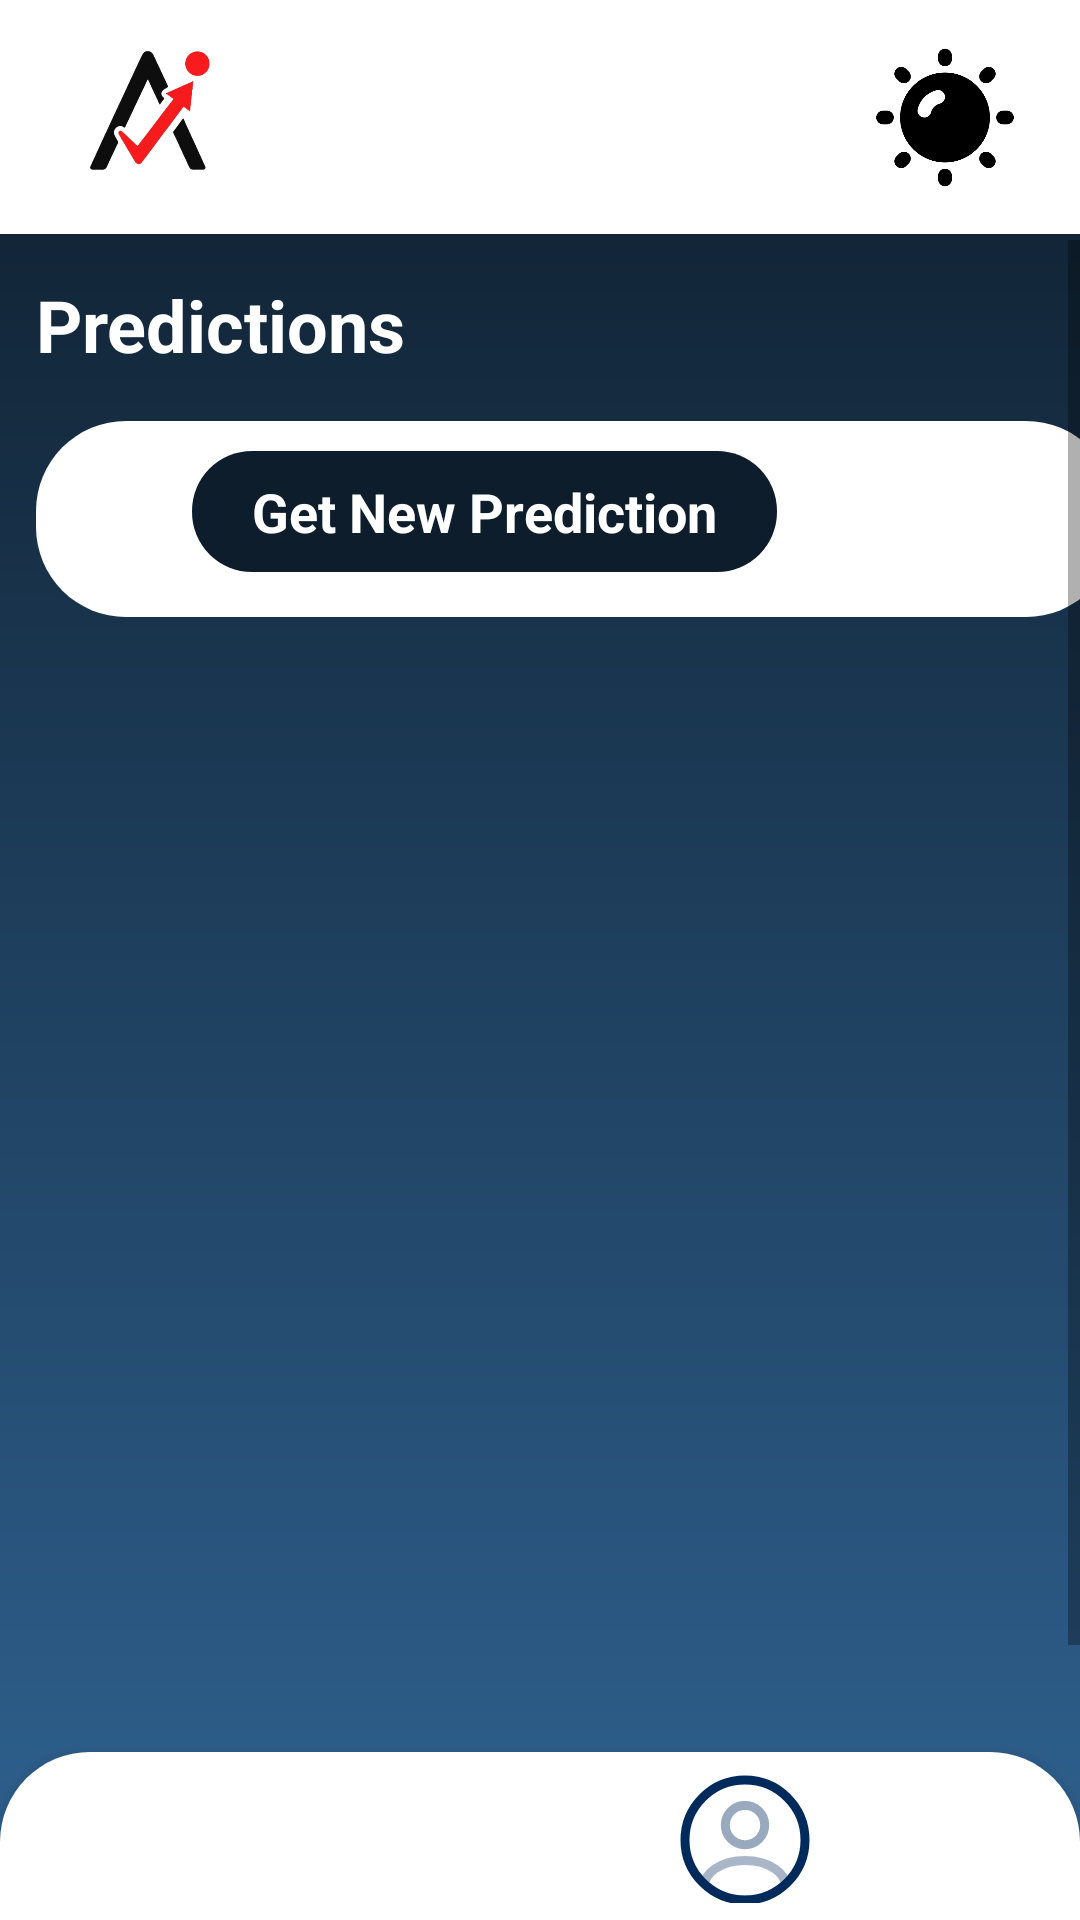

Screen size 1080px x 1920px. Icon name, then its center in pixels as point (x, y):
profile: point (745, 1839)
summer: point (945, 117)
